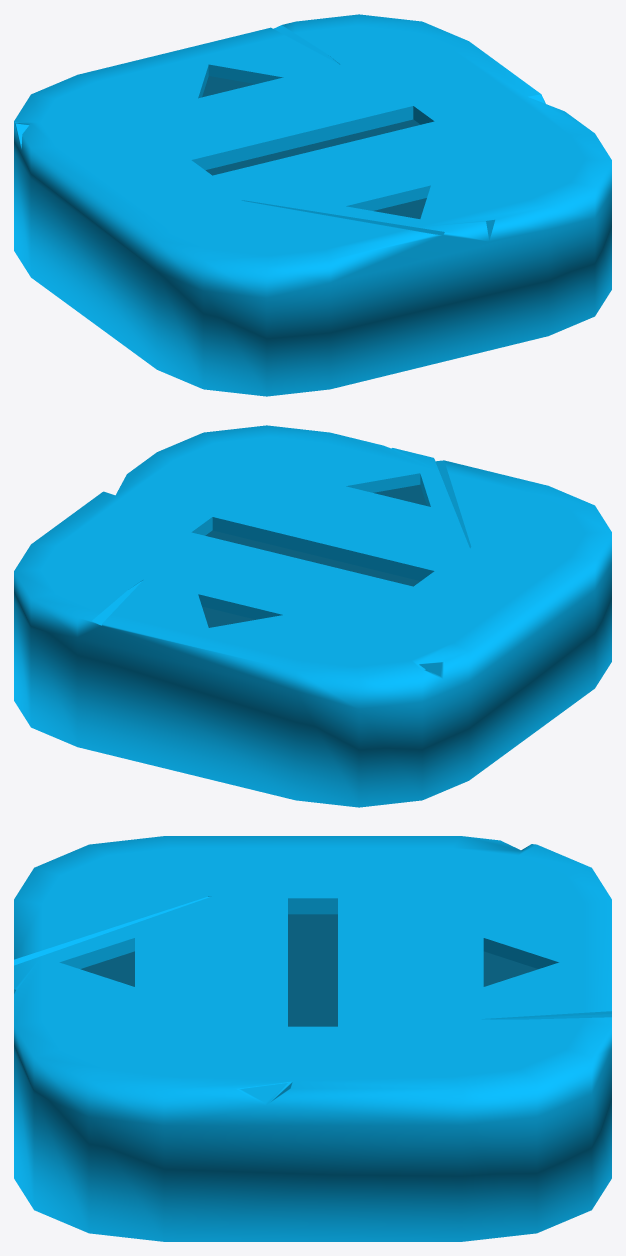
File: Plataforma_aguda_horizontal.fbx
3 views of the same model, one above another, from view 1: azimuth 30°, elevation 25°; view 2: azimuth 150°, elevation 25°; view 3: azimuth 270°, elevation 25° (orthographic). The views are drawn at different scales.
Visible parts, largest first — view 1: Platform, Cube.001, Cube.003, Cube.002; view 2: Platform, Cube.001, Cube.002, Cube.003; view 3: Platform, Cube.001, Cube.003, Cube.002.
Boxes of the visible parts, x1,y1,x2,y2 form: Platform: (14, 14, 611, 396); Cube.001: (205, 119, 420, 175); Cube.003: (202, 76, 255, 97); Cube.002: (374, 198, 426, 218); Platform: (14, 425, 611, 807); Cube.001: (205, 530, 420, 586); Cube.002: (373, 484, 426, 505); Cube.003: (202, 606, 255, 627); Platform: (14, 836, 611, 1241); Cube.001: (288, 914, 337, 1026); Cube.003: (483, 951, 537, 986); Cube.002: (80, 951, 134, 986).
Size of the model in its own units: 100 by 28.25 by 100.
